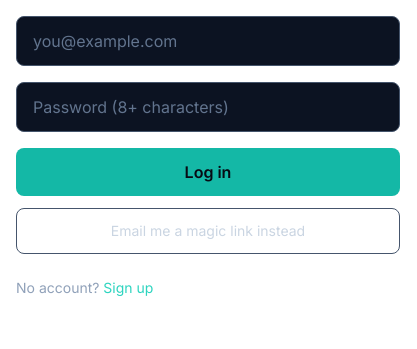
Test: AuthForm magic link › requires an email first
Click the button "Email me a magic link instead" at point(208, 231), box x1=16 y1=208 x2=400 y2=254
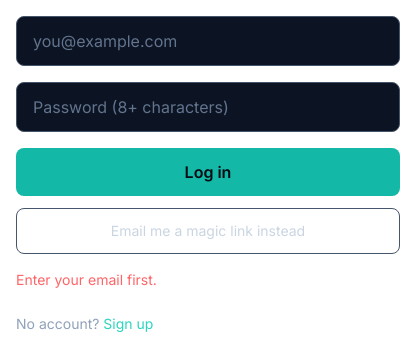
Expected: the text "Enter your email first." is shown, x1=16 y1=271 x2=157 y2=288
